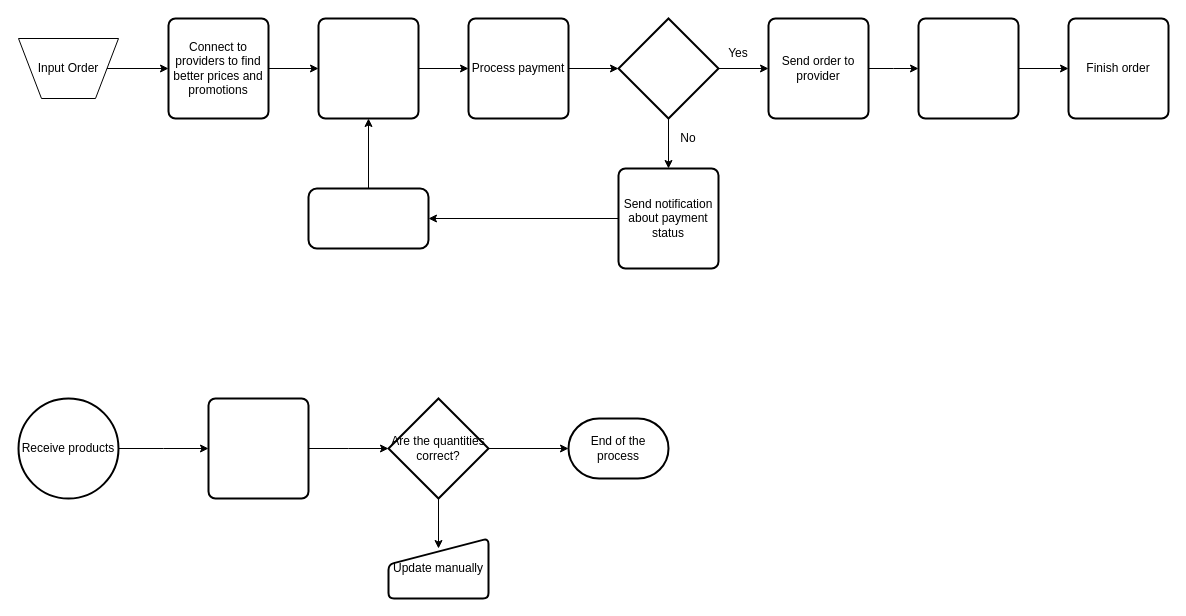
This 1186x616 diagram has some shape labels left out. The centre of each missing label's shape, as x and y in pixels:
Ask user to update payment method: the point at 368,218
Follow up the delivery status: the point at 968,68
Payment confirmed?: the point at 668,68
Send notification to user confirm the purchase: the point at 368,68
Update stocks automatically: the point at 258,448
